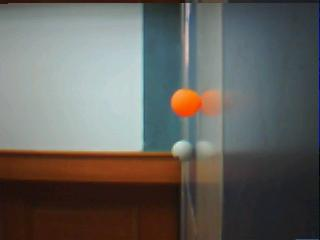oball: (171, 89, 200, 117)
